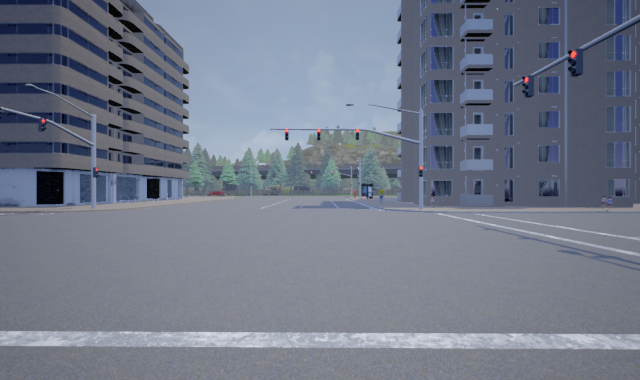pedestrian: (602, 195, 616, 211), (597, 194, 609, 208), (377, 186, 385, 204), (428, 194, 436, 208)
